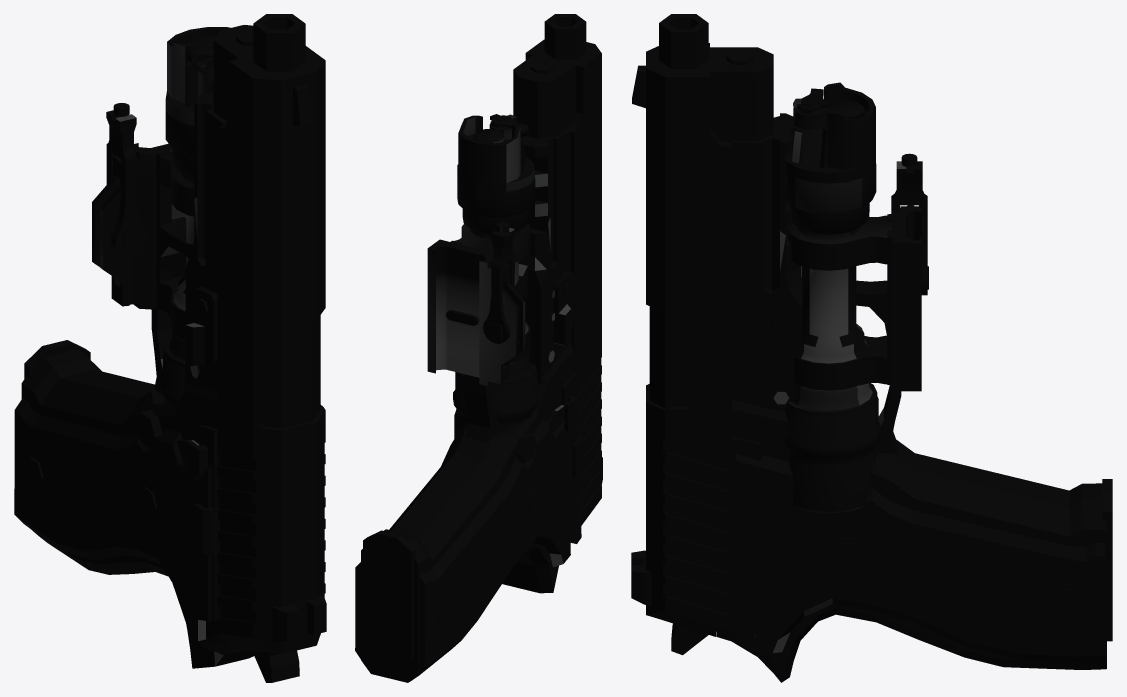
File: SIG_P226__Light_Weapon.fbx
The picture shows the model from 3 angles, left to right: view 1: azimuth 30°, elevation 25°; view 2: azimuth 150°, elevation 25°; view 3: azimuth 270°, elevation 25°; orthographic projection. The views are drawn at different scales.
Parts seen in each view (by area): view 1: asset_SIG_P226.001; view 2: asset_SIG_P226.001; view 3: asset_SIG_P226.001.
Boxes of the visible parts, left/top/right/bottom form: asset_SIG_P226.001: left=14, top=14, right=326, bottom=682; asset_SIG_P226.001: left=355, top=14, right=602, bottom=682; asset_SIG_P226.001: left=631, top=14, right=1112, bottom=682.
Size of the model in its own units: 0.0229 by 0.1212 by 0.0821.
